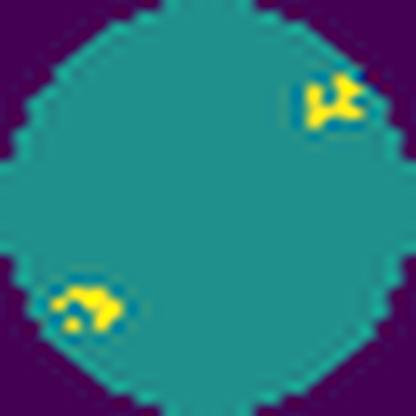Loc: (48, 278, 130, 342), (302, 71, 370, 137)
